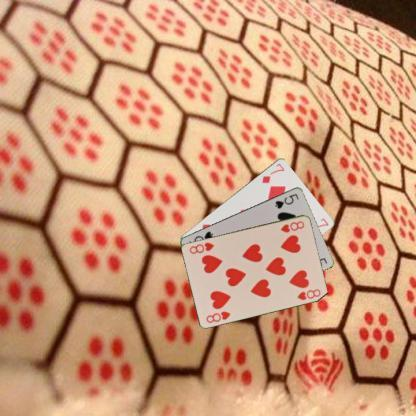5s: (272, 191, 300, 210)
7d: (259, 161, 286, 184)
8h: (204, 308, 232, 324), (278, 218, 306, 233)
